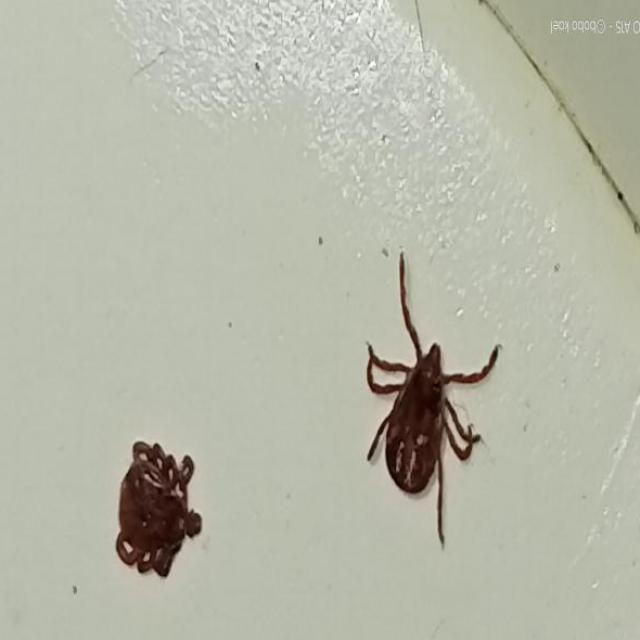Rhipicephalus Sanguineus-M: (365, 254, 501, 526), (114, 439, 203, 579)
